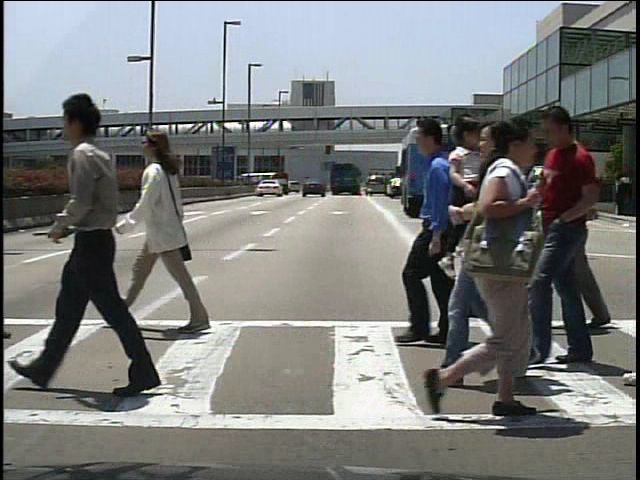person: (43, 79, 193, 401), (416, 112, 549, 426), (392, 117, 499, 348), (537, 105, 608, 375), (130, 120, 210, 337), (449, 130, 522, 322), (545, 141, 605, 339), (582, 168, 602, 218), (490, 163, 508, 215)
